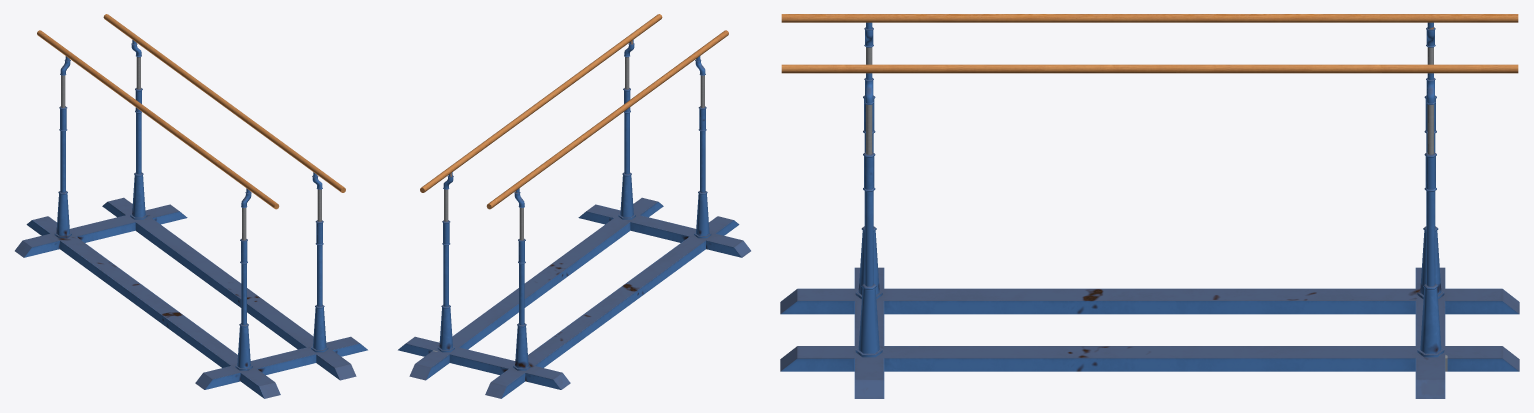
The model's file is mesh_bars.FBX.
3 renders of one model, left to right at view 1: azimuth 30°, elevation 25°; view 2: azimuth 150°, elevation 25°; view 3: azimuth 270°, elevation 25°, orthographic. The views are drawn at different scales.
Visible parts, largest first — view 1: mesh_bars; view 2: mesh_bars; view 3: mesh_bars.
Boxes of the visible parts, x1,y1,x2,y2 form: mesh_bars: (15,14,367,398); mesh_bars: (398,14,750,398); mesh_bars: (780,14,1519,398).
Size of the model in its own units: 1 by 1.12 by 2.52.
1 material, 1 textured.
